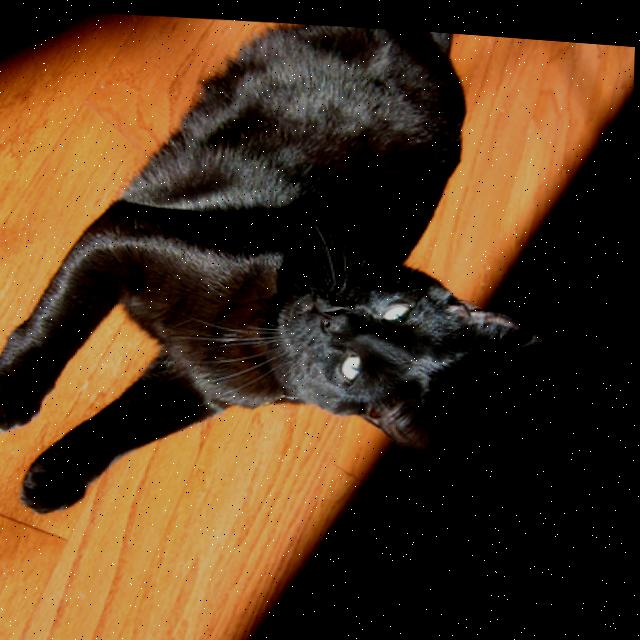Bombay: (0, 0, 562, 543)
